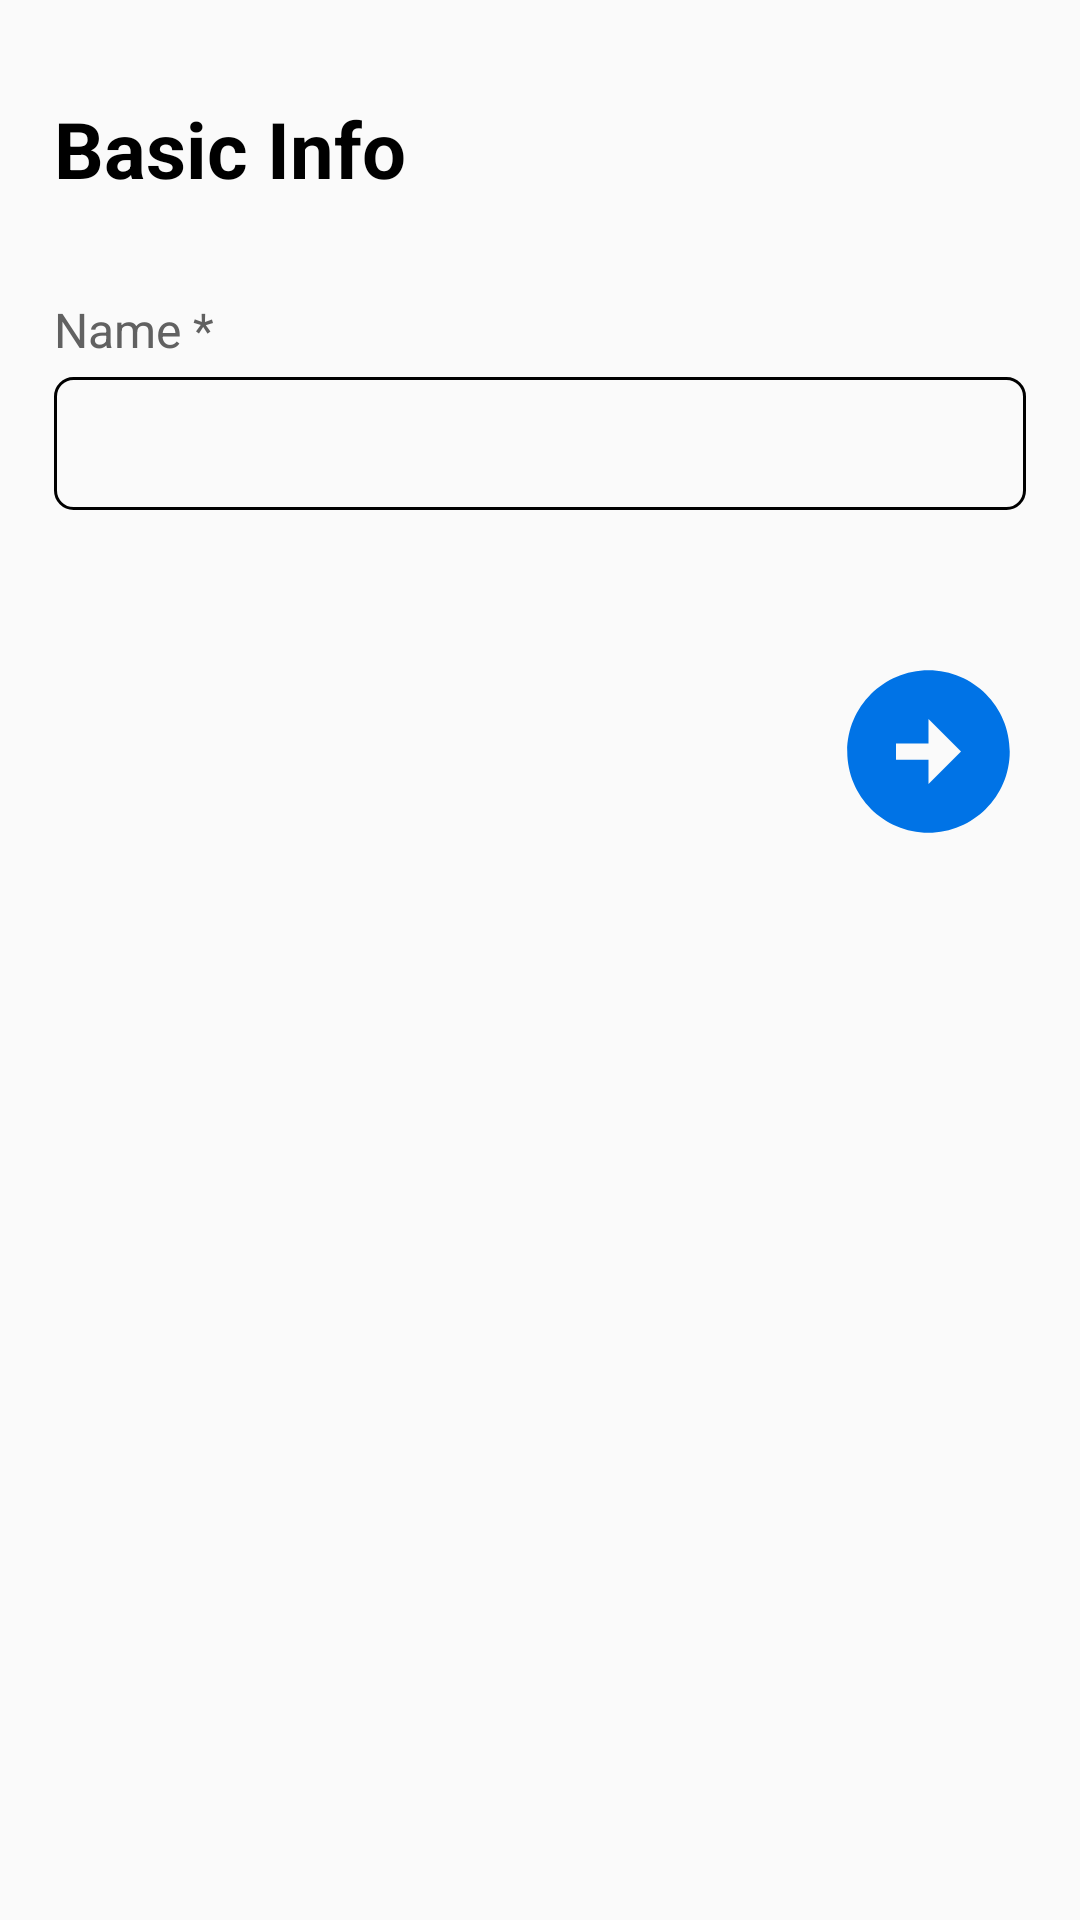

Where icons sit on this 1080*1920 app screen, as (x1, y1, x2, y2):
arrow: (847, 670, 1010, 833)
